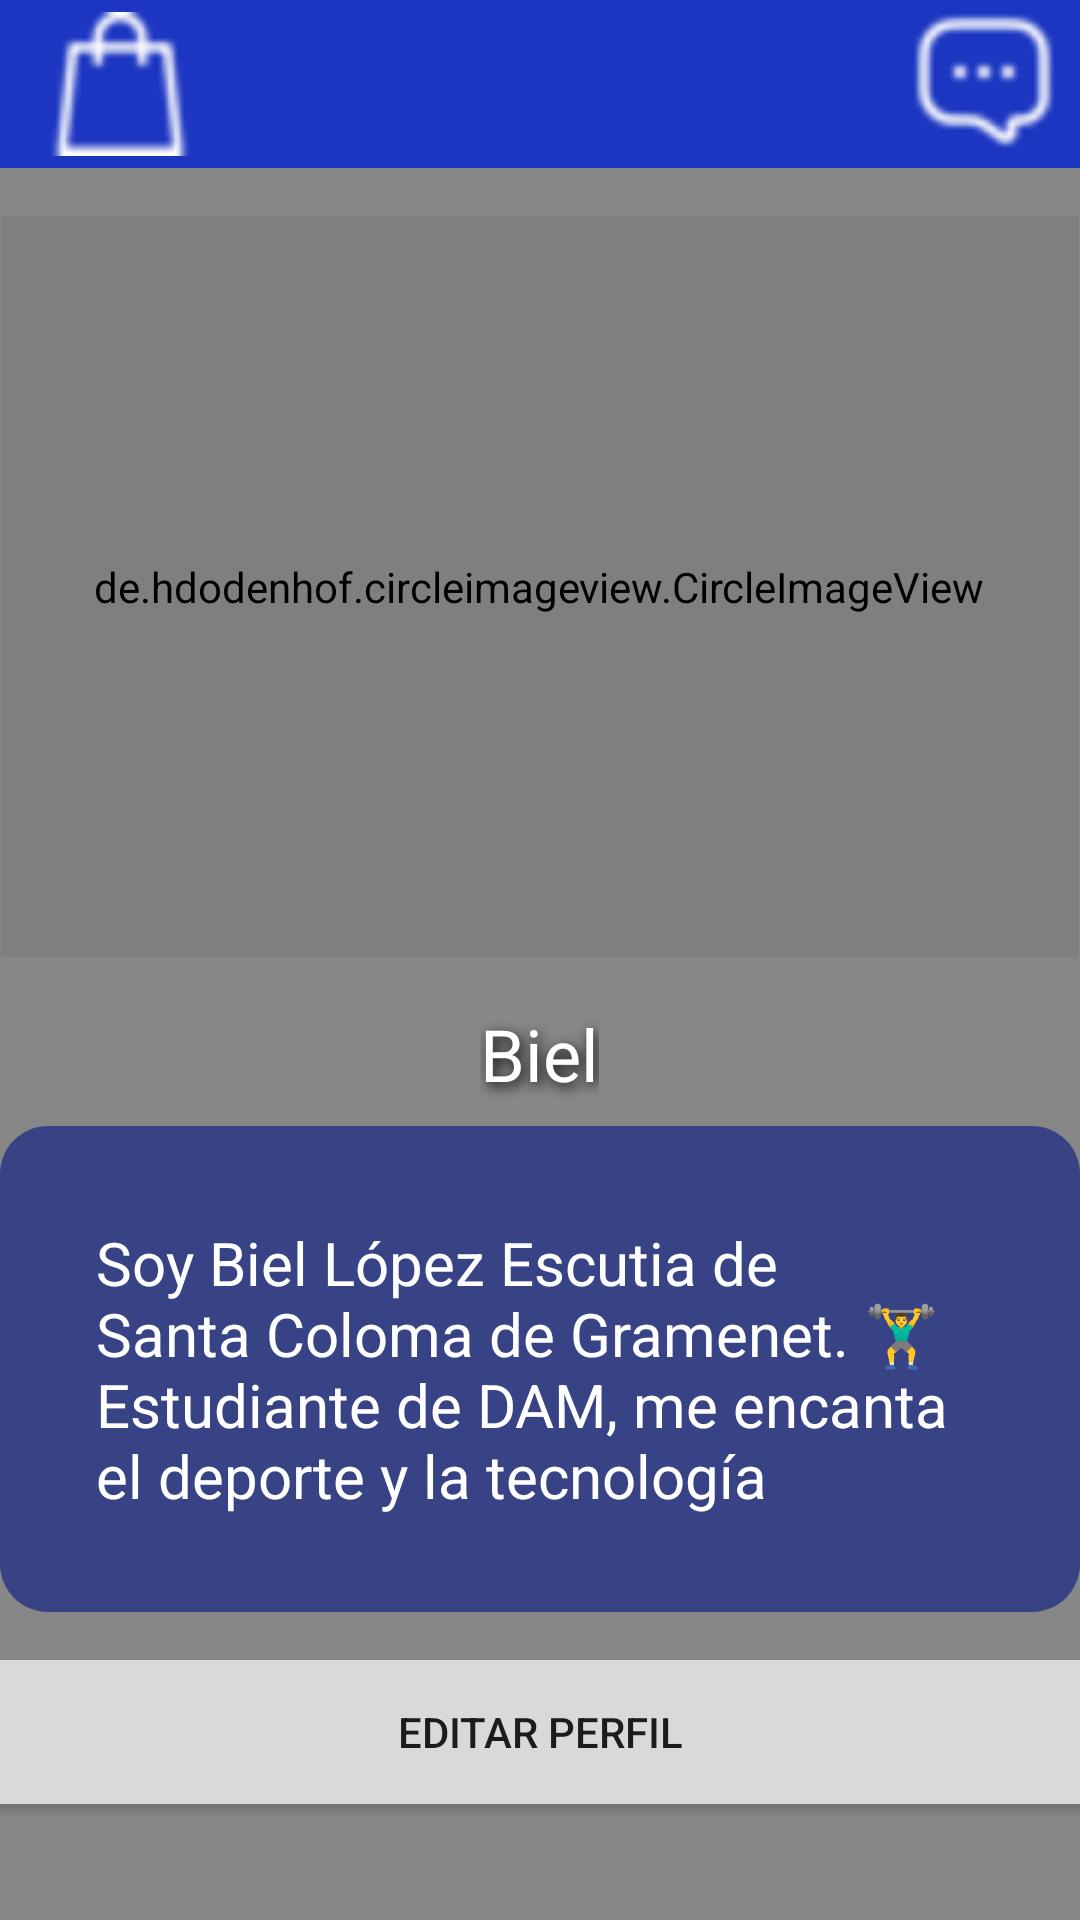

Where to tap for icons on this 1080*1920 app screen, as point (x, y):
chat: point (984, 81)
tienda: point (120, 84)
